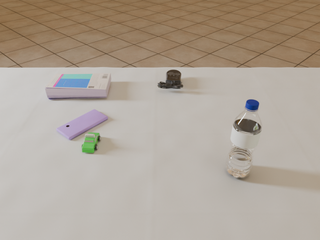book: (45, 73, 111, 100)
bottle: (225, 99, 262, 178)
mouse: (157, 70, 183, 89)
phone: (56, 109, 108, 140)
toy_car: (82, 133, 101, 153)
